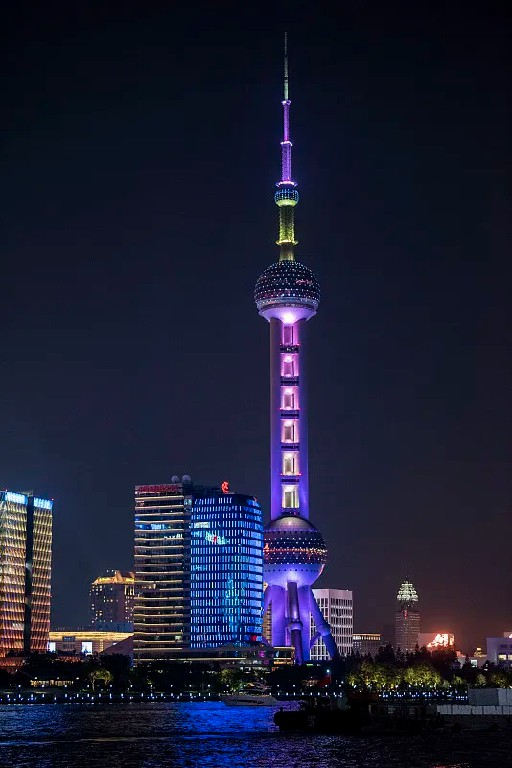Oriental: (254, 26, 342, 664)
